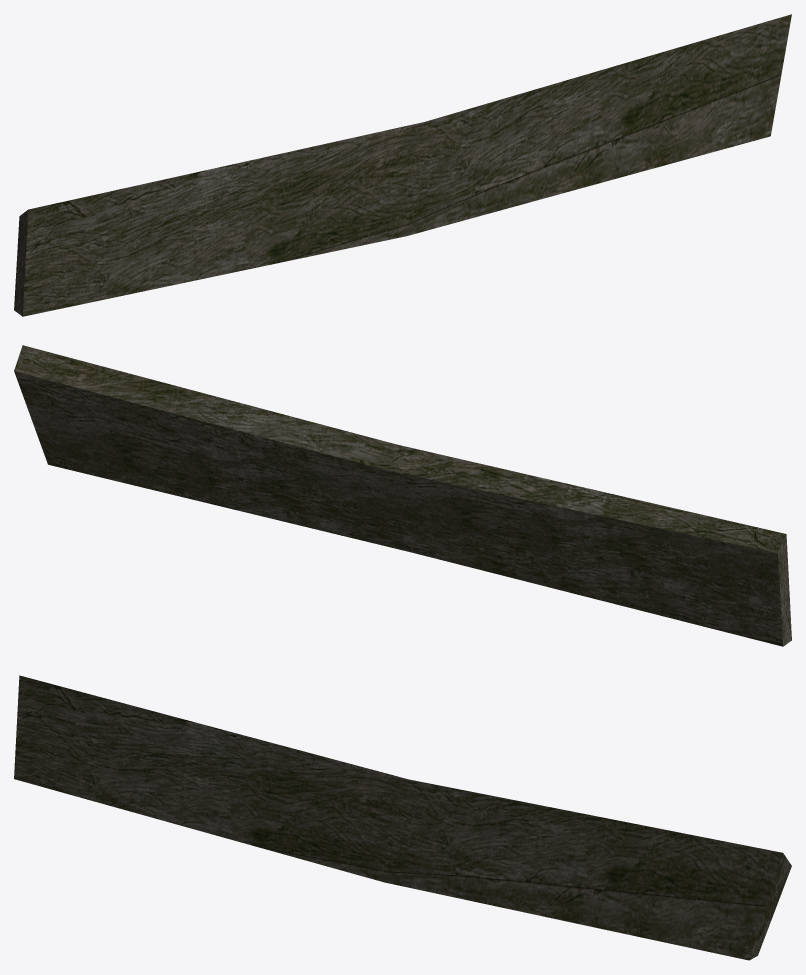
Rendered from TI_Plank_04.fbx.
3 views of the same model, one above another, from view 1: azimuth 30°, elevation 25°; view 2: azimuth 150°, elevation 25°; view 3: azimuth 330°, elevation 25° (orthographic).
Visible parts, largest first — view 1: TI_Plank_04; view 2: TI_Plank_04; view 3: TI_Plank_04.
Part boxes in pixels (x1,y1,x2,y2): TI_Plank_04: [14, 14, 791, 316]; TI_Plank_04: [14, 345, 791, 646]; TI_Plank_04: [14, 675, 791, 960].
Size of the model in its own units: 3.88 by 0.5747 by 0.1509.
